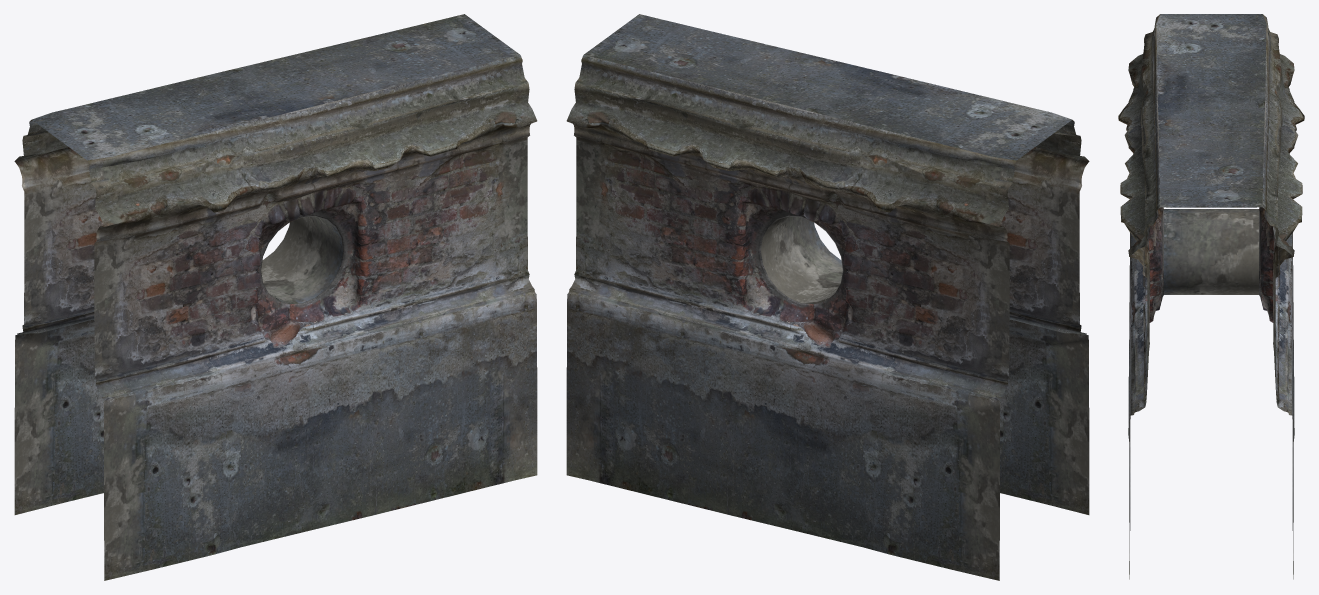
The model's file is SM_ChapelWall_04_01.fbx.
The picture shows the model from 3 angles, left to right: view 1: azimuth 30°, elevation 25°; view 2: azimuth 150°, elevation 25°; view 3: azimuth 270°, elevation 25°; orthographic projection. The views are drawn at different scales.
Parts seen in each view (by area): view 1: sm_ChapelWall_04_01_LOD0; view 2: sm_ChapelWall_04_01_LOD0; view 3: sm_ChapelWall_04_01_LOD0.
Boxes of the visible parts, x1,y1,x2,y2 form: sm_ChapelWall_04_01_LOD0: (14,14,537,580); sm_ChapelWall_04_01_LOD0: (566,14,1089,580); sm_ChapelWall_04_01_LOD0: (1118,14,1304,579).
Bounding box in the file's own units: 102 × 250 × 225.
